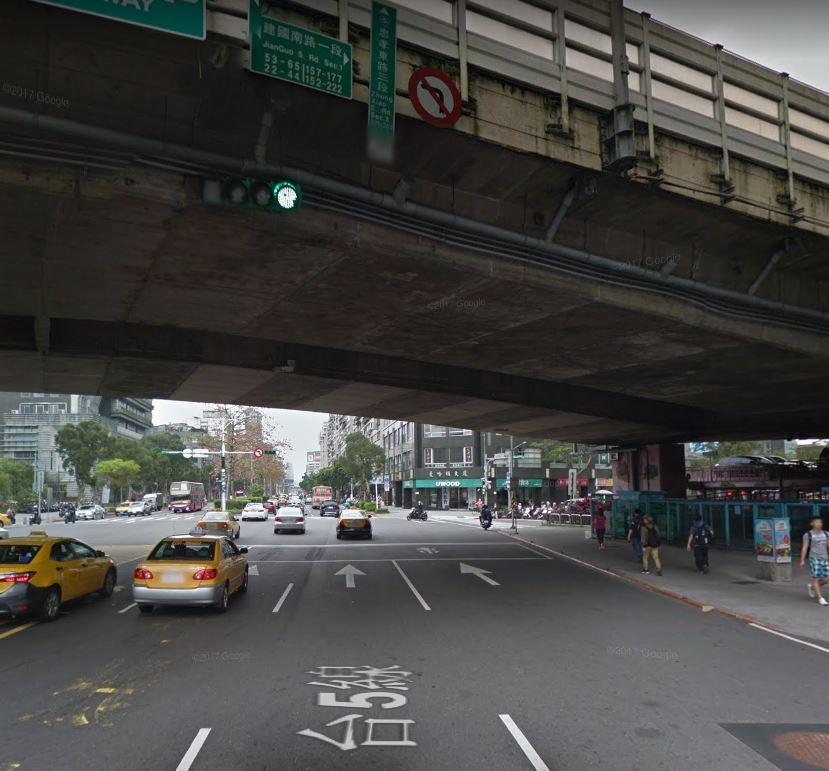green_traffic_light: (195, 173, 301, 212)
no_left_turn: (406, 66, 463, 127)
